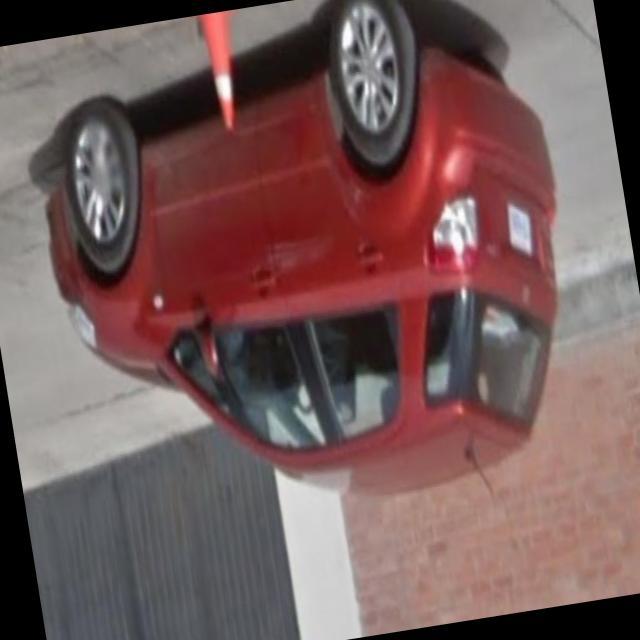car: (13, 0, 602, 546)
